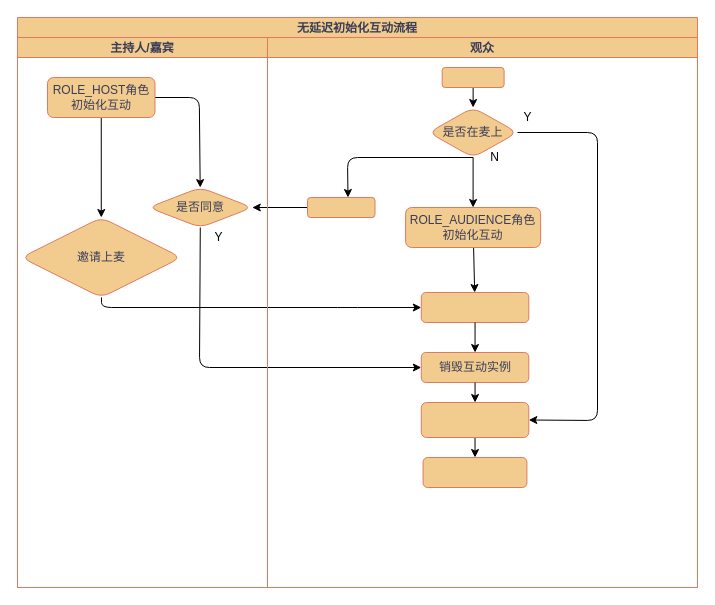
The diagram is 715 pixels wide and 605 high, and some of its shapes have lost their labels. Here are the shapes that lost their labels. From the top down, the centre of each, then its label:
At (x=472, y=77): "进入房间".
At (x=340, y=207): "申请上麦".
At (x=474, y=307): "同意".
At (x=474, y=420): "ROLE_HOST角色 初始化互动实例".
At (x=474, y=472): "开始推流".
